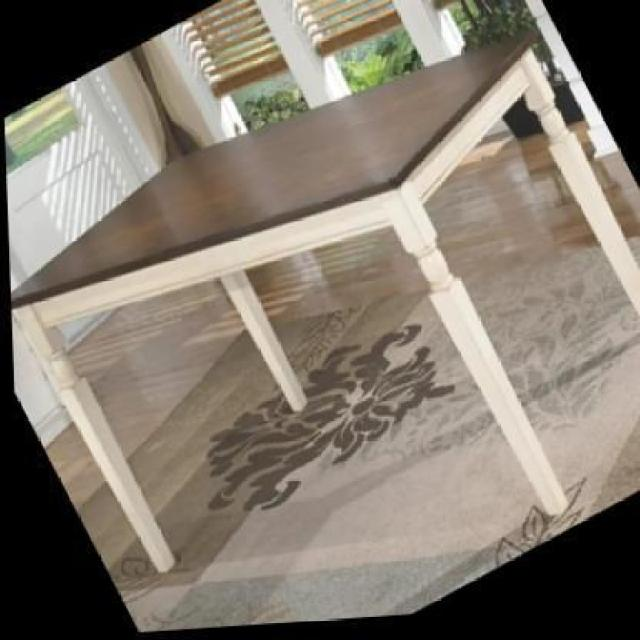tables: (9, 25, 638, 572)
